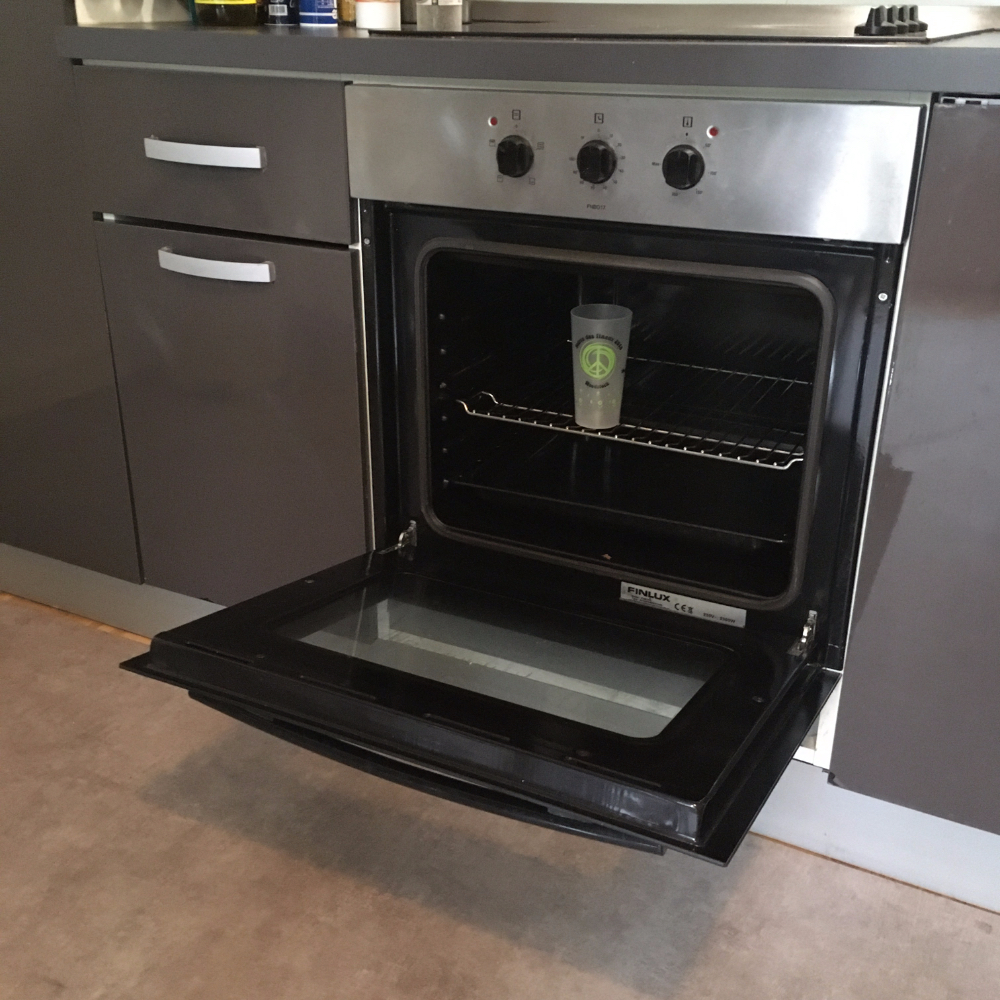ecocup: (569, 303, 632, 430)
